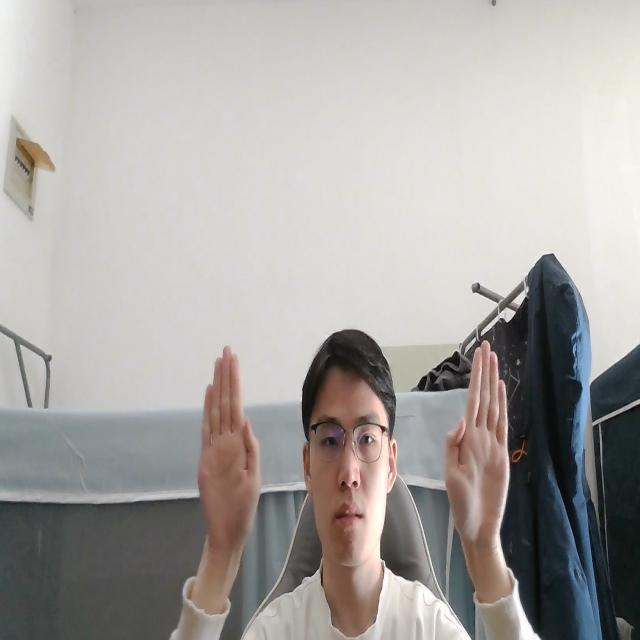five: (441, 332, 511, 554), (196, 340, 262, 562)
